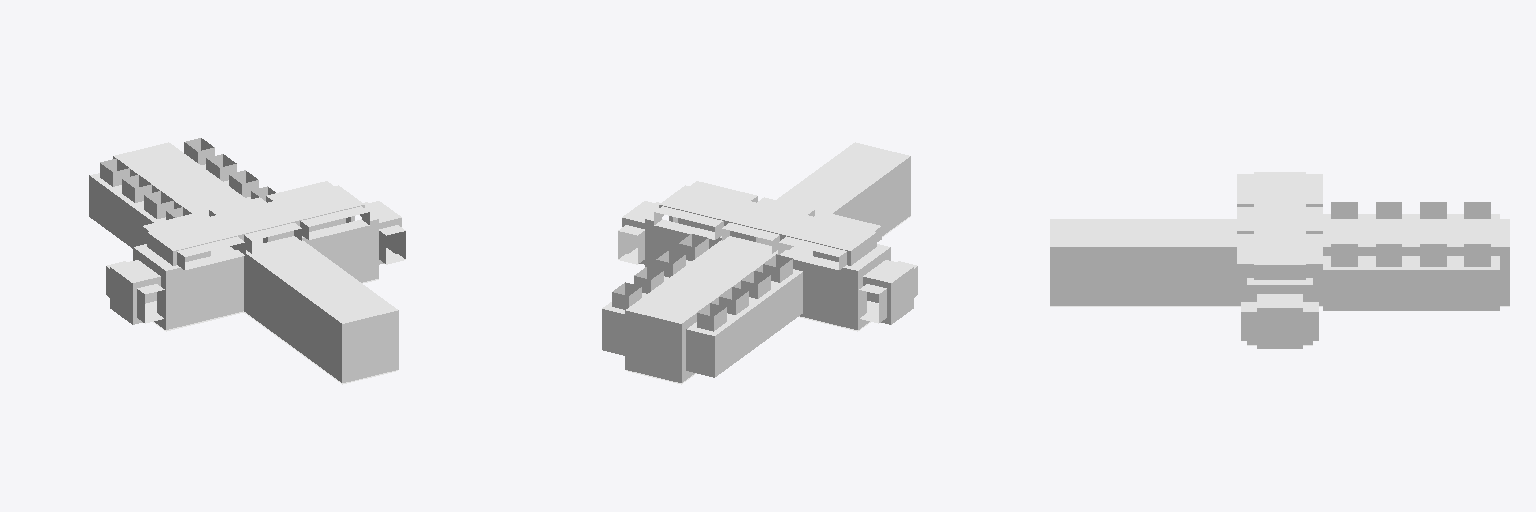
Rendered from demasigaleria.obj.
The picture shows the model from 3 angles: view 1: azimuth 30°, elevation 25°; view 2: azimuth 150°, elevation 25°; view 3: azimuth 270°, elevation 25°; orthographic projection.
Visible parts, largest first — view 1: Piano.020_Piano.2; view 2: Piano.020_Piano.2; view 3: Piano.020_Piano.2.
Part boxes in pixels (bbox=[...]): Piano.020_Piano.2: bbox=[89, 138, 405, 384]; Piano.020_Piano.2: bbox=[602, 142, 917, 384]; Piano.020_Piano.2: bbox=[1050, 172, 1509, 348].
Bounding box in the file's own units: 399 × 107 × 588.